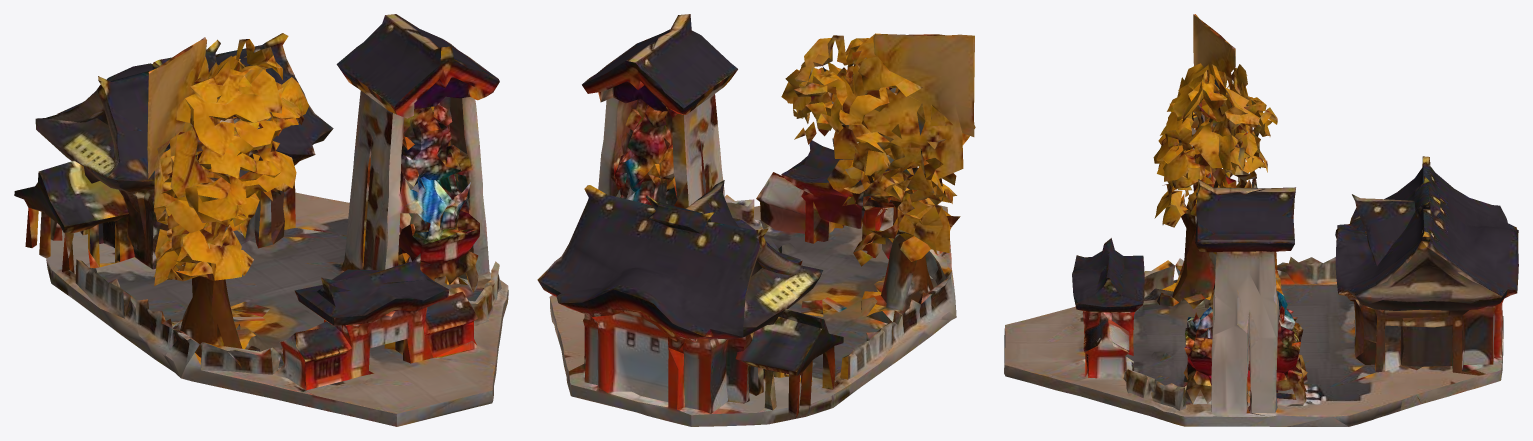
File: kushida-shrine.glb
The picture shows the model from 3 angles, left to right: view 1: azimuth 30°, elevation 25°; view 2: azimuth 150°, elevation 25°; view 3: azimuth 270°, elevation 25°; orthographic projection. The views are drawn at different scales.
Parts seen in each view (by area): view 1: logan-textured.obj; view 2: logan-textured.obj; view 3: logan-textured.obj.
Boxes of the visible parts, x1,y1,x2,y2 form: logan-textured.obj: (14, 14, 508, 426); logan-textured.obj: (537, 14, 975, 426); logan-textured.obj: (1004, 14, 1518, 426).
Size of the model in its own units: 0.6853 by 0.567 by 1.
Materials: 1 (1 with a texture image).
